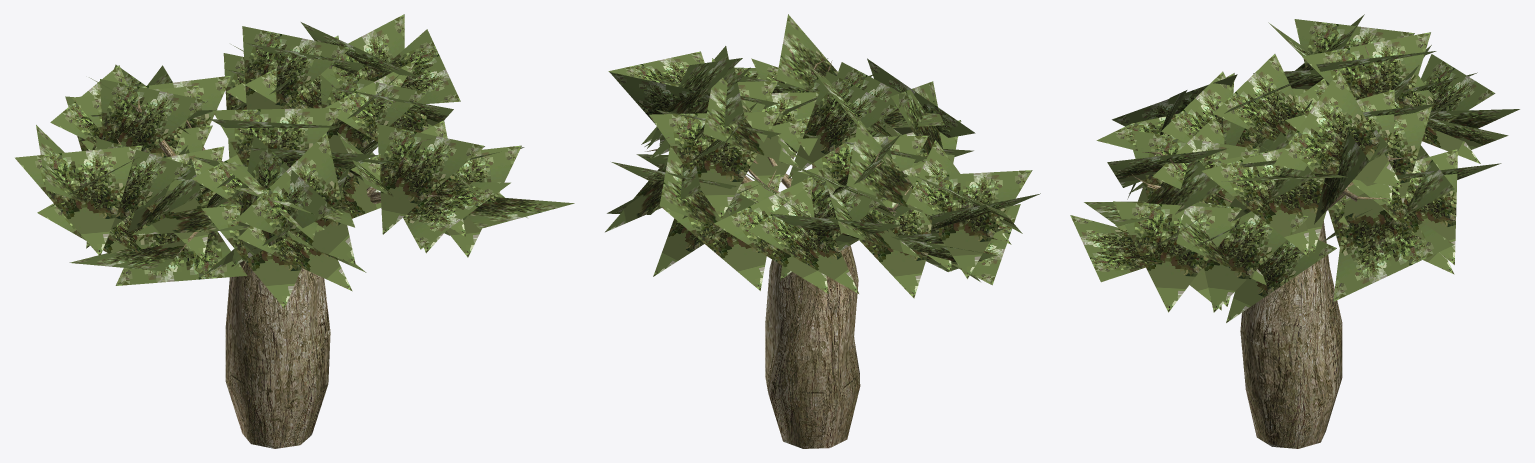
File: baobab_v3.glb
The picture shows the model from 3 angles, left to right: view 1: azimuth 30°, elevation 25°; view 2: azimuth 150°, elevation 25°; view 3: azimuth 270°, elevation 25°; orthographic projection.
Visible parts, largest first — view 1: canopy158, tree_baobab_trunk_d; view 2: canopy158, tree_baobab_trunk_d; view 3: canopy158, tree_baobab_trunk_d.
Boxes of the visible parts, x1,y1,x2,y2 form: canopy158: (15, 14, 574, 308); tree_baobab_trunk_d: (116, 97, 443, 448); canopy158: (605, 14, 1040, 298); tree_baobab_trunk_d: (645, 45, 913, 448); canopy158: (1070, 14, 1519, 322); tree_baobab_trunk_d: (1131, 44, 1407, 448).
Bounding box in the file's own units: 8.73 × 7.38 × 7.77.
Materials: 2 (2 with a texture image).
